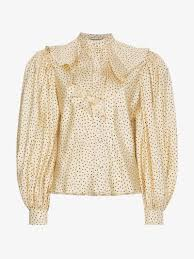C_blouse: (11, 36, 186, 225)
